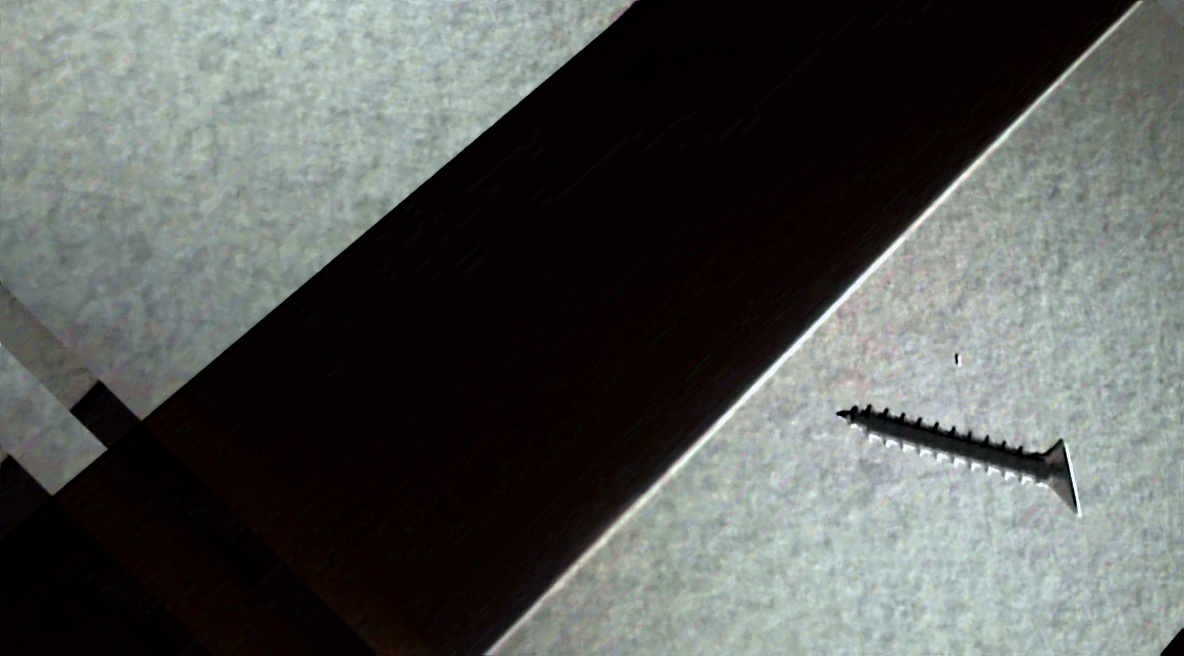S001: (753, 268, 1139, 655)
